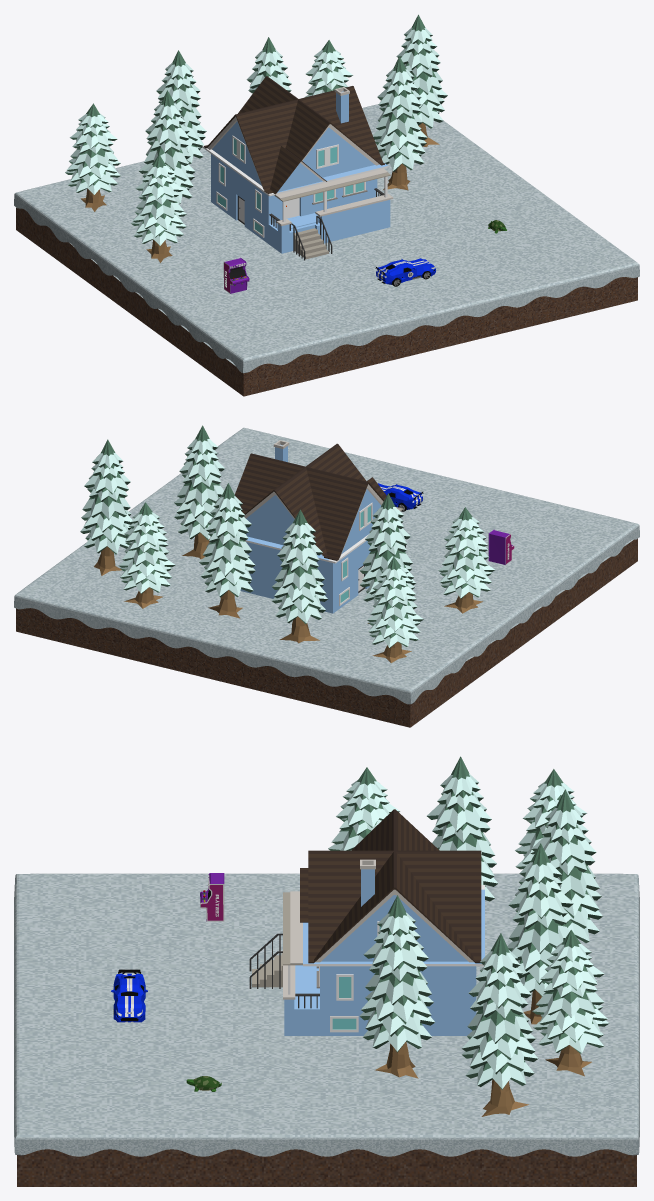
3 renders of one model, top to bottom at view 1: azimuth 30°, elevation 25°; view 2: azimuth 150°, elevation 25°; view 3: azimuth 270°, elevation 25°, orthographic. The views are drawn at different scales.
Parts seen in each view (by area): view 1: Cube.003, Cube.1594, VEHICLES_RACING_CAR, OBJRANDOM_ARCADE; view 2: Cube.003, Cube.1594, OBJRANDOM_ARCADE, VEHICLES_RACING_CAR; view 3: Cube.003, Cube.1594, VEHICLES_RACING_CAR, OBJRANDOM_ARCADE.
Boxes of the visible parts, <box> form: Cube.003: <box>14,14,639,396</box>; Cube.1594: <box>202,76,393,260</box>; VEHICLES_RACING_CAR: <box>375,258,435,286</box>; OBJRANDOM_ARCADE: <box>223,257,249,293</box>; Cube.003: <box>14,425,639,727</box>; Cube.1594: <box>235,440,405,613</box>; OBJRANDOM_ARCADE: <box>488,529,514,564</box>; VEHICLES_RACING_CAR: <box>378,483,423,511</box>; Cube.003: <box>14,756,639,1186</box>; Cube.1594: <box>249,809,484,1035</box>; VEHICLES_RACING_CAR: <box>111,969,147,1022</box>; OBJRANDOM_ARCADE: <box>200,873,224,921</box>.
Size of the model in its own units: 4040 by 1708 by 4040.
Materials: 42 (3 with a texture image).
